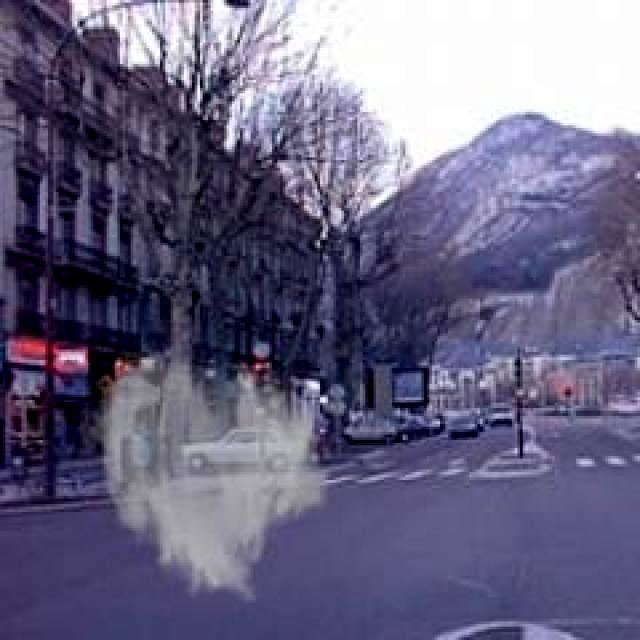Smoke: (92, 346, 335, 610)
